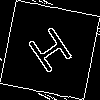H: (25, 25, 81, 83)
